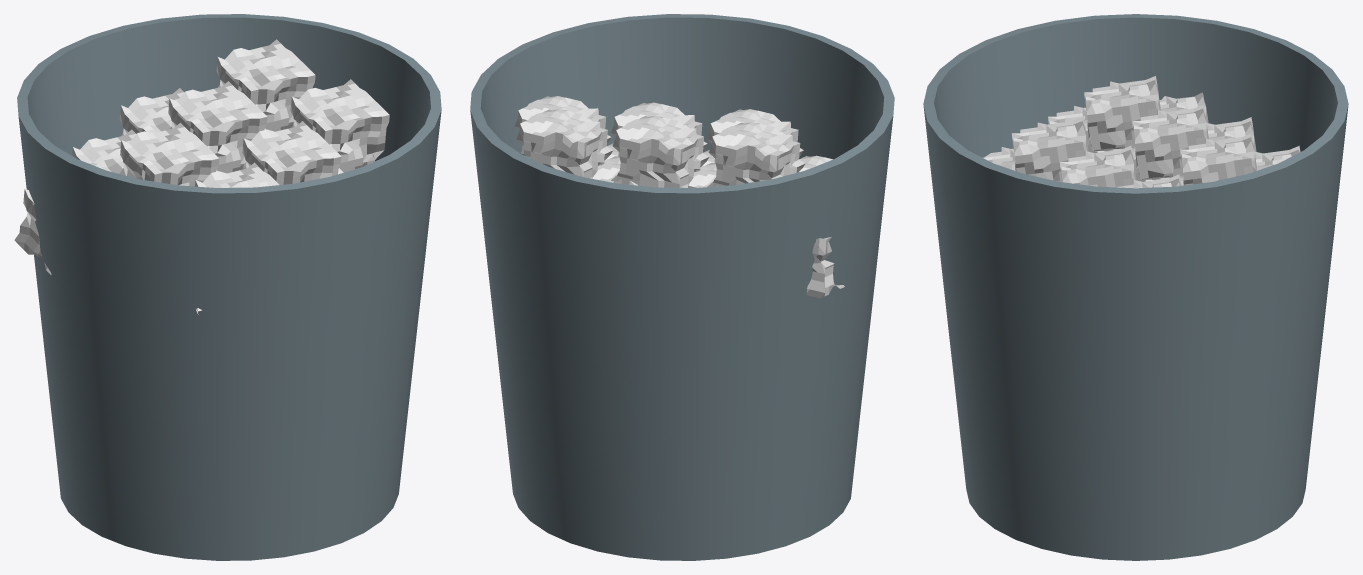
File: trashcan_02.glb
The picture shows the model from 3 angles, left to right: view 1: azimuth 30°, elevation 25°; view 2: azimuth 150°, elevation 25°; view 3: azimuth 270°, elevation 25°; orthographic projection.
Parts seen in each view (by area): view 1: Cylinder.120; view 2: Cylinder.120; view 3: Cylinder.120.
Part boxes in pixels (<box>): Cylinder.120: <box>14,14,441,560</box>; Cylinder.120: <box>470,14,894,560</box>; Cylinder.120: <box>923,14,1348,560</box>.
Bounding box in the file's own units: 0.3561 × 0.3569 × 0.3561.
